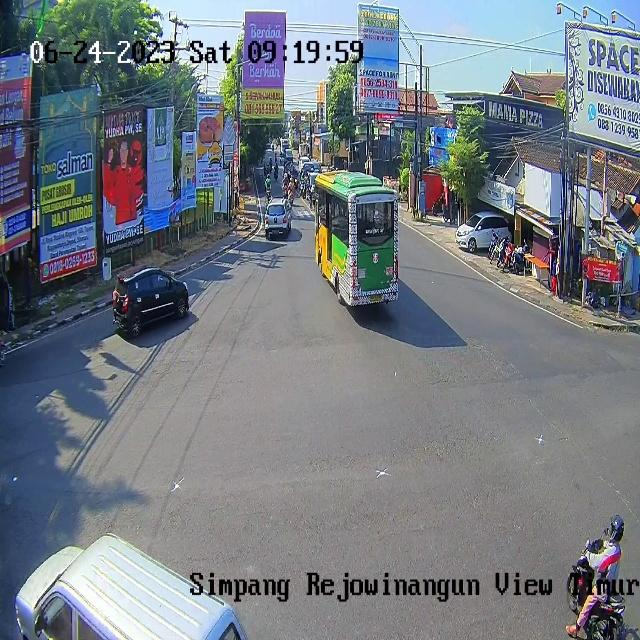bus: (566, 539, 626, 640), (282, 184, 288, 197), (289, 193, 294, 207), (266, 187, 271, 199)
car: (315, 170, 399, 307)
motorcycle: (15, 532, 250, 640), (113, 265, 189, 338), (455, 212, 513, 254), (264, 198, 290, 237), (284, 149, 294, 162)
